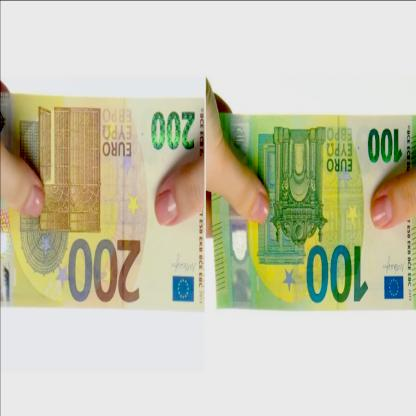euro_banknote: (213, 114, 416, 312)
